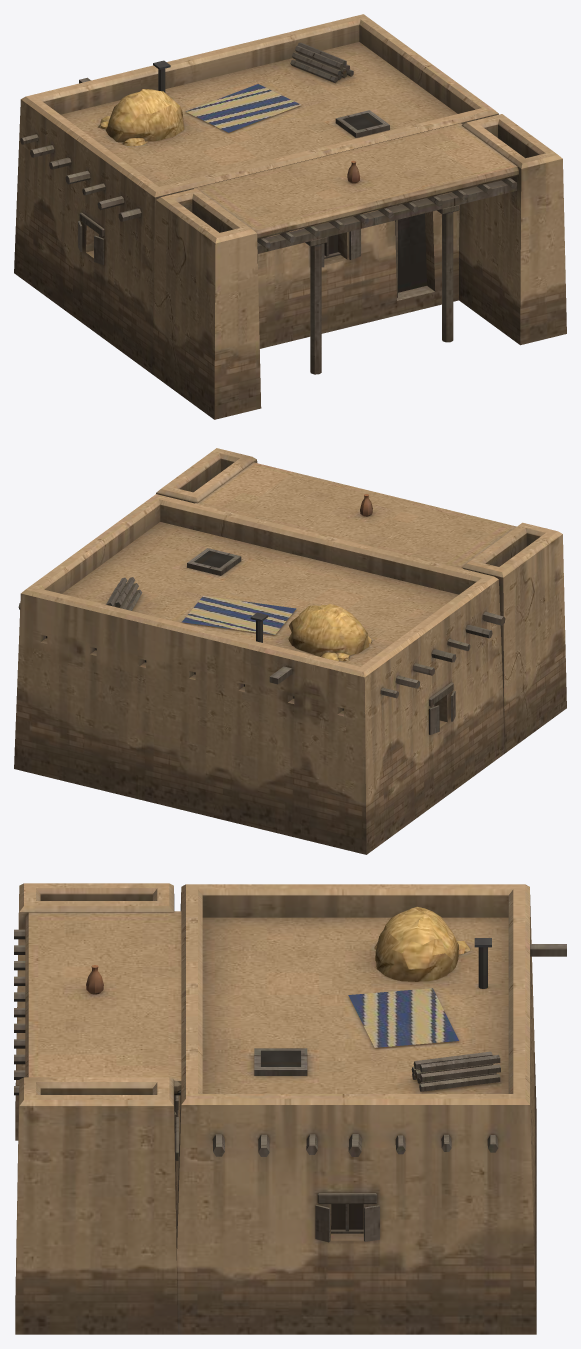
3 views of the same model, one above another, from view 1: azimuth 30°, elevation 25°; view 2: azimuth 150°, elevation 25°; view 3: azimuth 270°, elevation 25° (orthographic). The views are drawn at different scales.
Visible parts, largest first — view 1: vh_h50c; view 2: vh_h50c; view 3: vh_h50c.
Part boxes in pixels (x1,y1,x2,y2): vh_h50c: (14,14,566,419); vh_h50c: (14,448,566,854); vh_h50c: (14,883,566,1334).
Bounding box in the file's own units: 8.51 × 4.07 × 8.08.
Materials: 1 (1 with a texture image).
